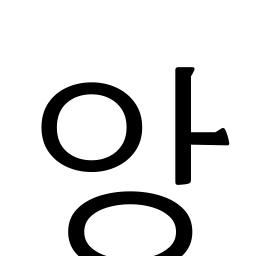Gaji: (159, 114, 210, 162)
